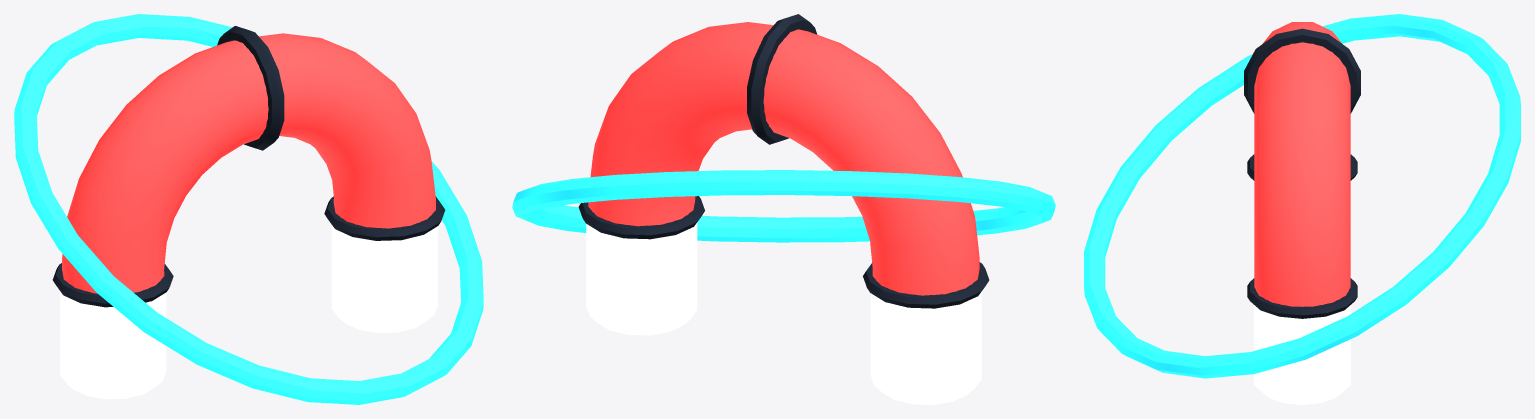
Rendered from powerup_iman.glb.
3 views of the same model, side by side, from view 1: azimuth 30°, elevation 25°; view 2: azimuth 150°, elevation 25°; view 3: azimuth 270°, elevation 25° (orthographic). The views are drawn at different scales.
Parts seen in each view (by area): view 1: PowerUp_Iman; view 2: PowerUp_Iman; view 3: PowerUp_Iman.
Part boxes in pixels (<box>): PowerUp_Iman: <box>14,14,483,404</box>; PowerUp_Iman: <box>512,14,1055,404</box>; PowerUp_Iman: <box>1084,14,1520,404</box>.
Bounding box in the file's own units: 1.09 × 0.759 × 1.01.
